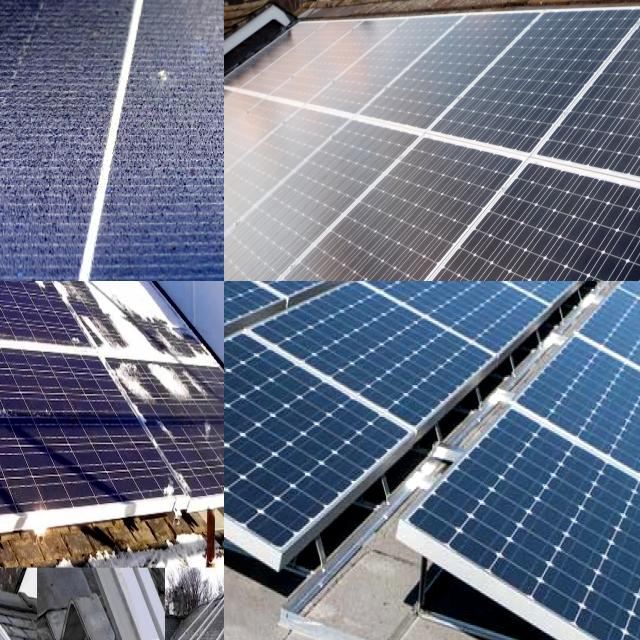crack: (423, 400, 640, 640), (224, 281, 507, 448), (238, 127, 531, 281), (502, 312, 640, 561), (309, 193, 640, 281), (519, 3, 640, 206), (364, 281, 556, 378), (437, 281, 592, 352), (581, 281, 640, 448), (483, 281, 629, 341), (530, 281, 640, 337)
panel: (95, 282, 178, 351), (117, 354, 200, 410), (0, 281, 54, 337), (0, 281, 52, 330), (50, 281, 133, 306), (156, 476, 203, 518), (0, 281, 18, 333), (0, 281, 32, 298)
